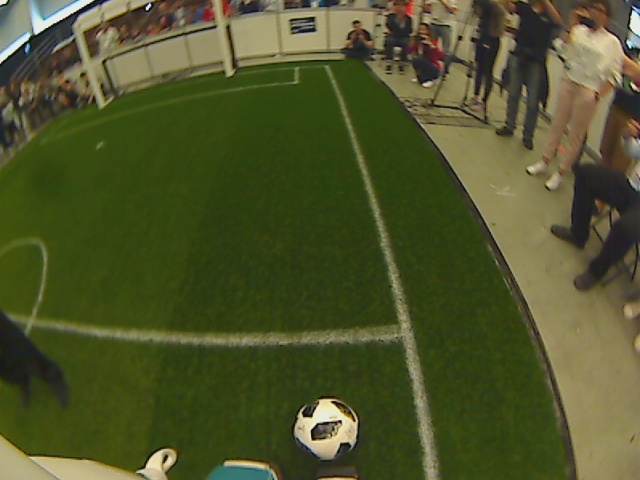ball: (289, 393, 359, 462)
